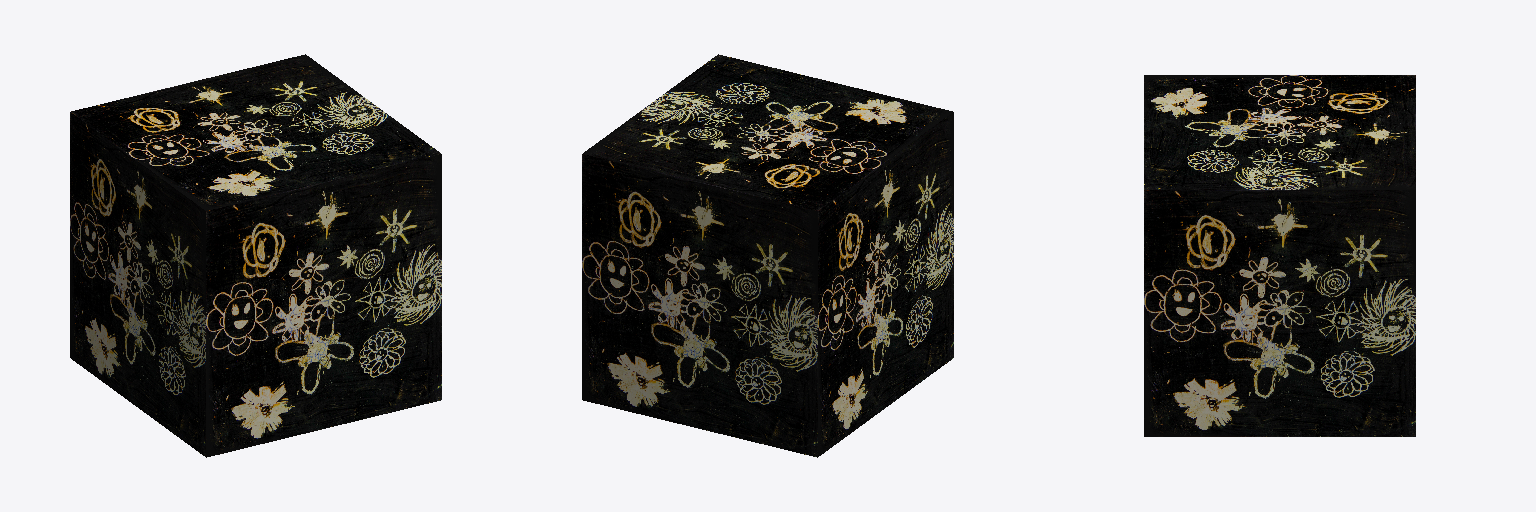
The picture shows the model from 3 angles: view 1: azimuth 30°, elevation 25°; view 2: azimuth 150°, elevation 25°; view 3: azimuth 270°, elevation 25°; orthographic projection.
Visible parts, largest first — view 1: Cube; view 2: Cube; view 3: Cube.
Part boxes in pixels (x1,y1,x2,y2): Cube: (70,54,441,457); Cube: (582,54,953,457); Cube: (1144,75,1415,436).
Bounding box in the file's own units: 200 × 200 × 200.
Materials: 1 (1 with a texture image).